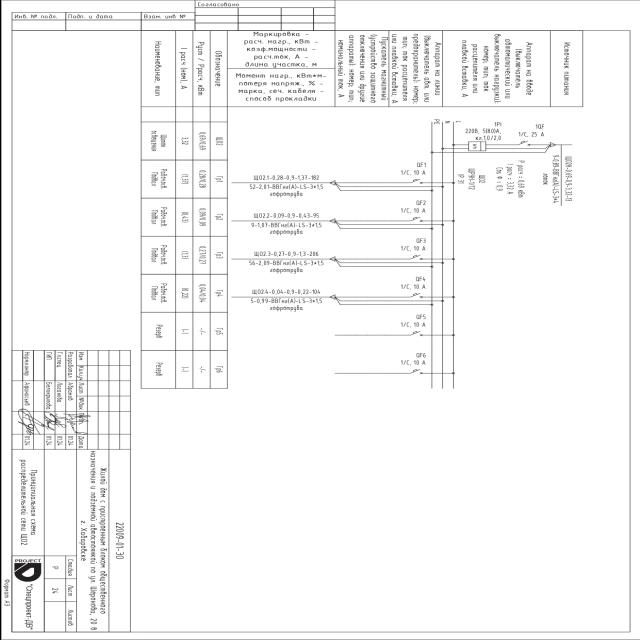-: (463, 128, 502, 142), (455, 168, 477, 190), (516, 130, 546, 138), (398, 358, 426, 366), (399, 207, 427, 215), (400, 169, 428, 177), (400, 283, 428, 291), (398, 245, 426, 253), (399, 321, 427, 329)
QF: (514, 140, 532, 148), (408, 330, 423, 338), (407, 368, 423, 375), (408, 292, 424, 299), (408, 253, 423, 260), (408, 216, 423, 223), (408, 178, 423, 185)
WH: (466, 141, 486, 151)
